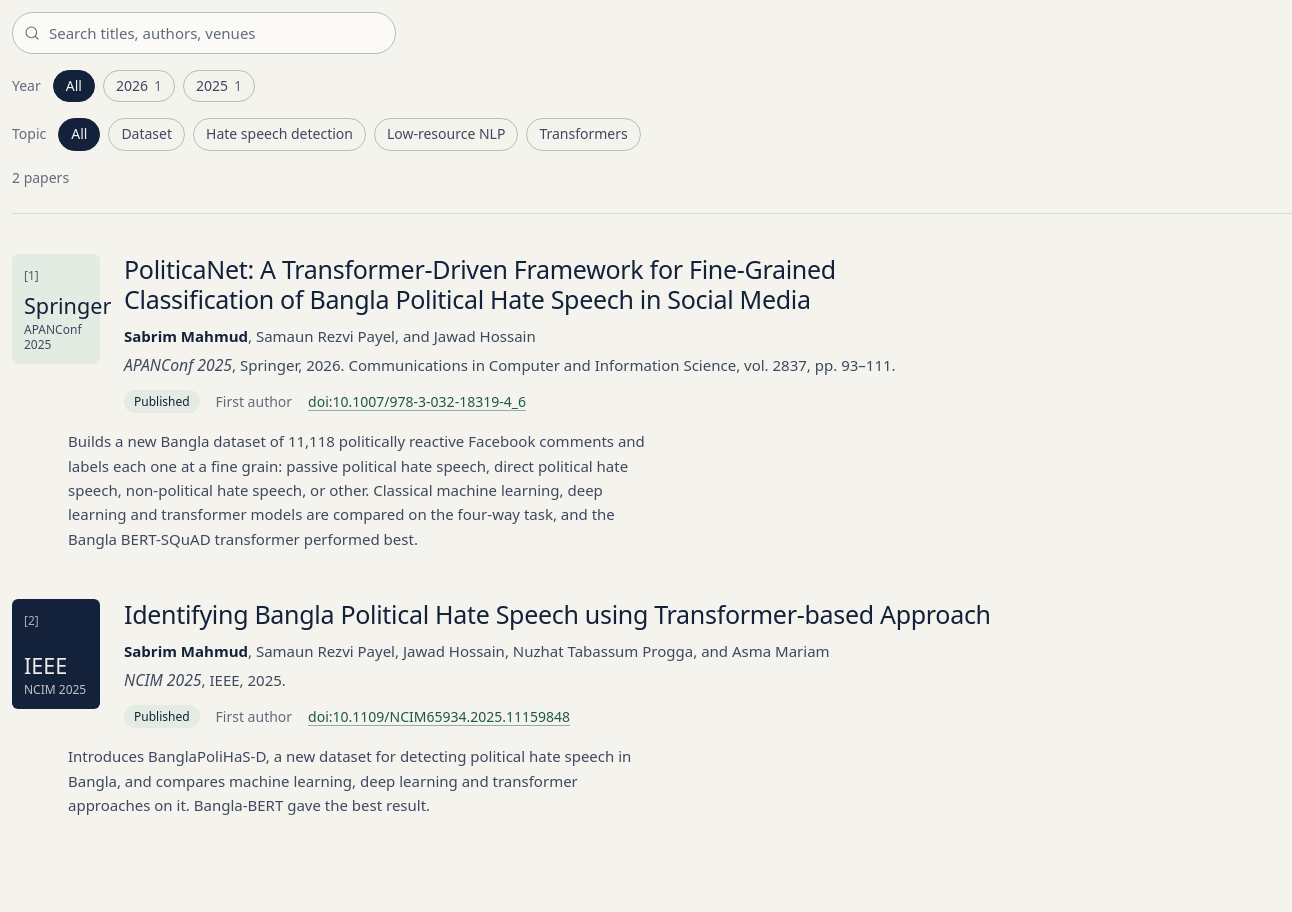
Test case: PublicationExplorer › filters by year and shows an empty state with a reset
Expected: the number of list items is 2, [12,252,896,549]; [12,597,991,815]
Click the button "20251" at (219, 86), box [183,70,255,102]
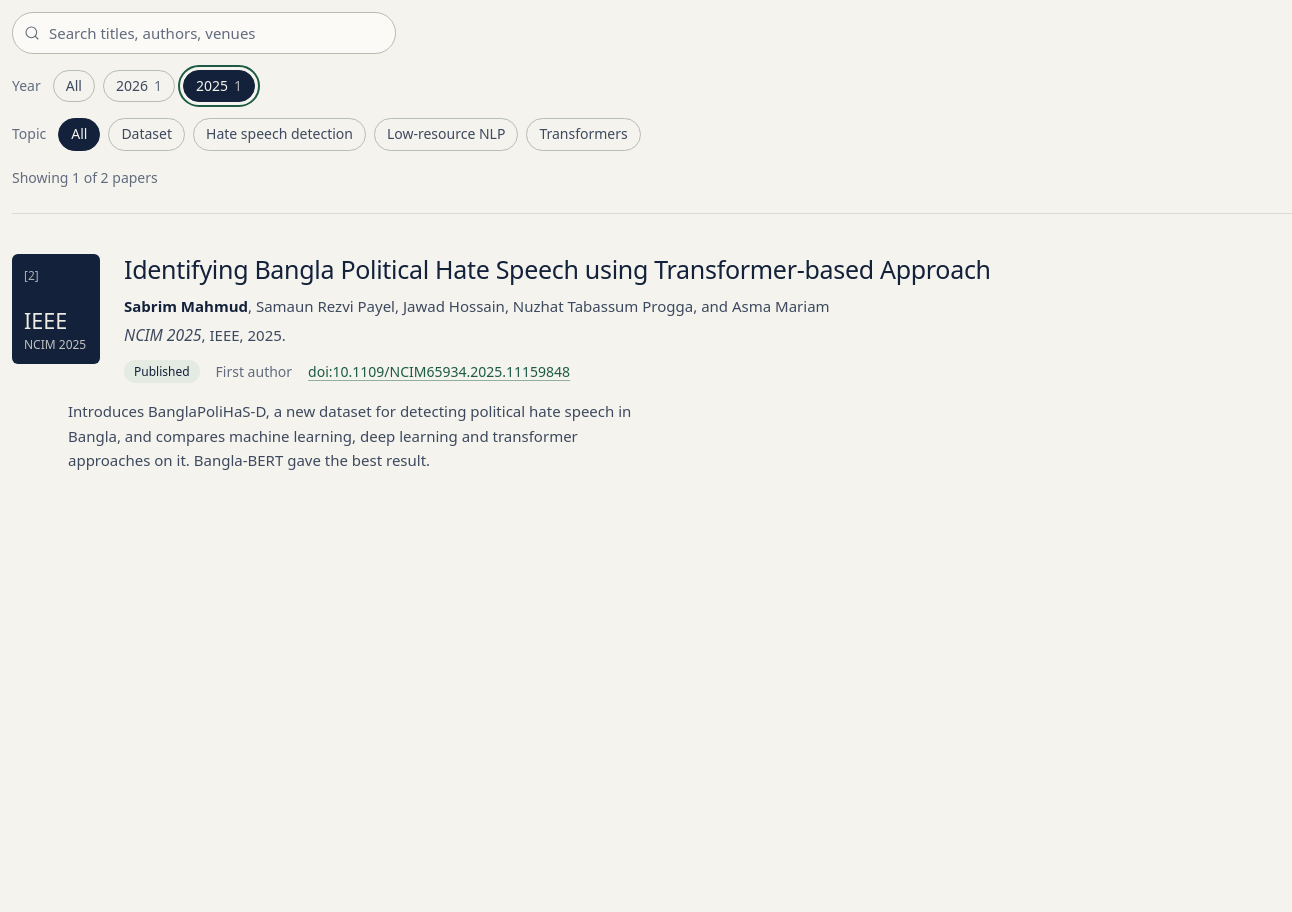
Expected: the heading "Identifying Bangla Political Hate Speech" is shown, [124,252,991,286]
Expected: the message reads "Showing 1 of 2 papers", [12,168,158,187]
Type "PoliticaNet" into the search field named "Search publications" at (204, 33), box [12,12,396,54]
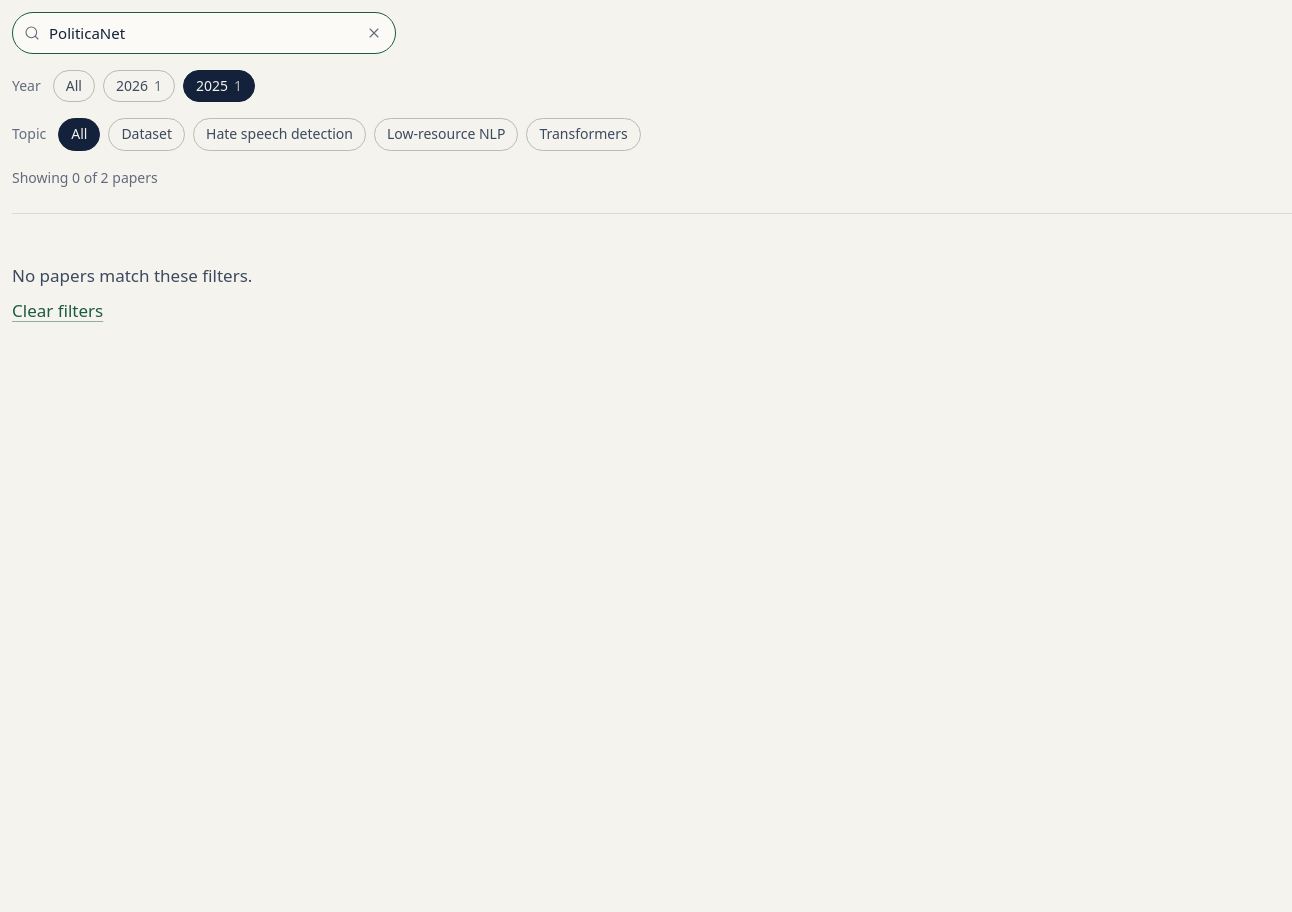
Expected: the text "No papers match these filters." is shown, [12,264,252,287]
Click the button "Clear filters" at (58, 311), box [12,297,103,325]
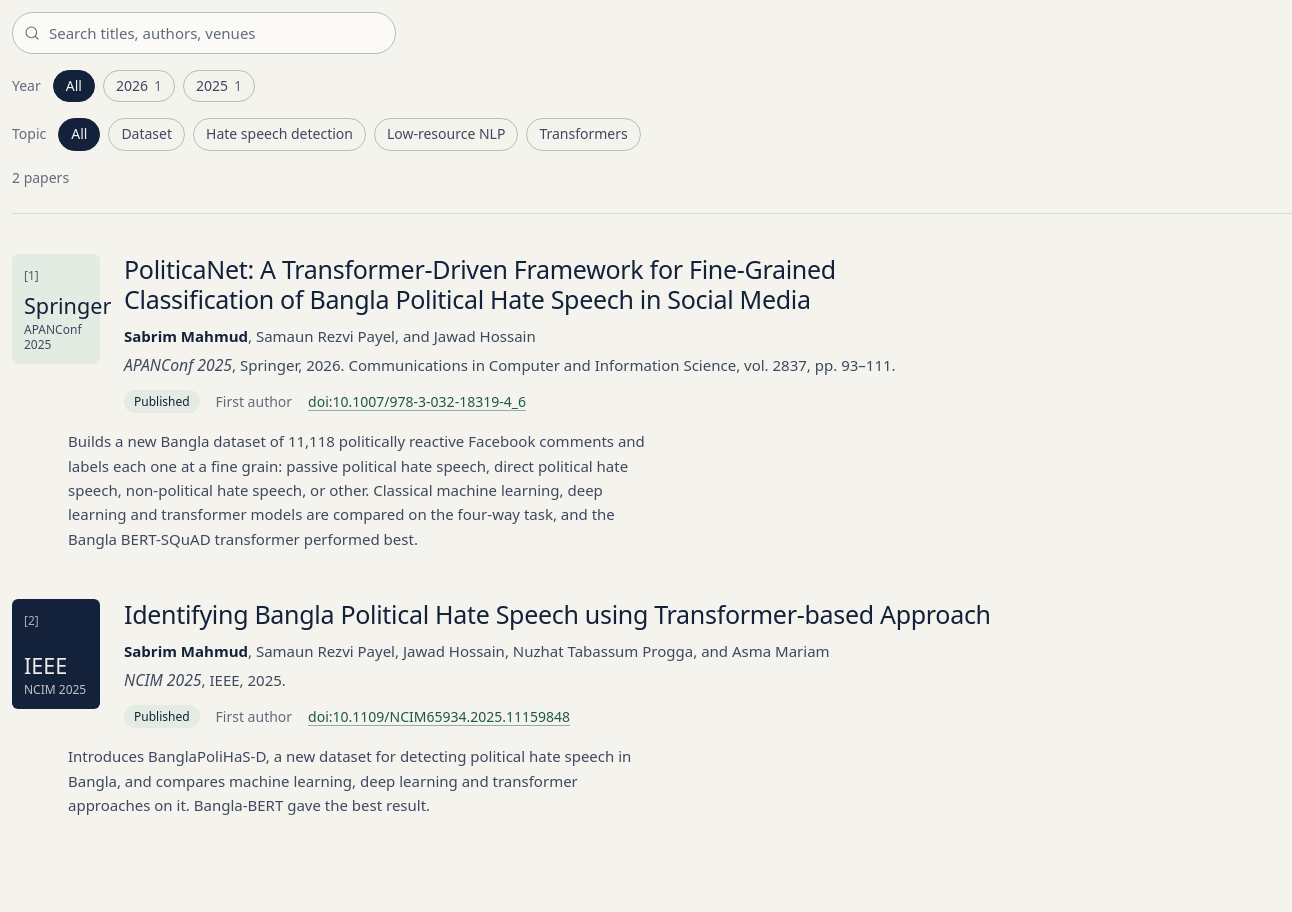
Expected: the message reads "2 papers", [12,168,69,187]
